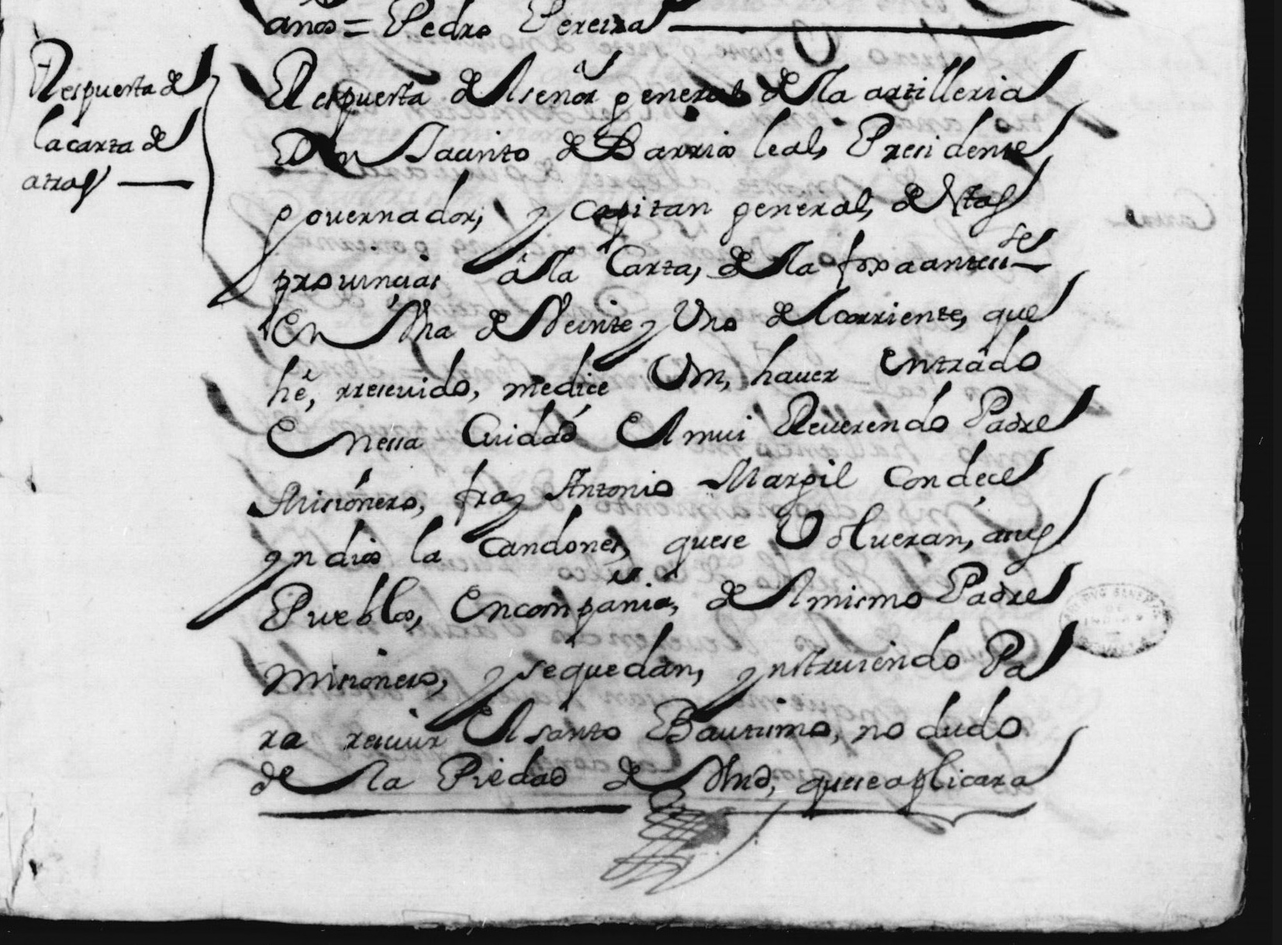lacandon: (410, 504, 623, 563)
